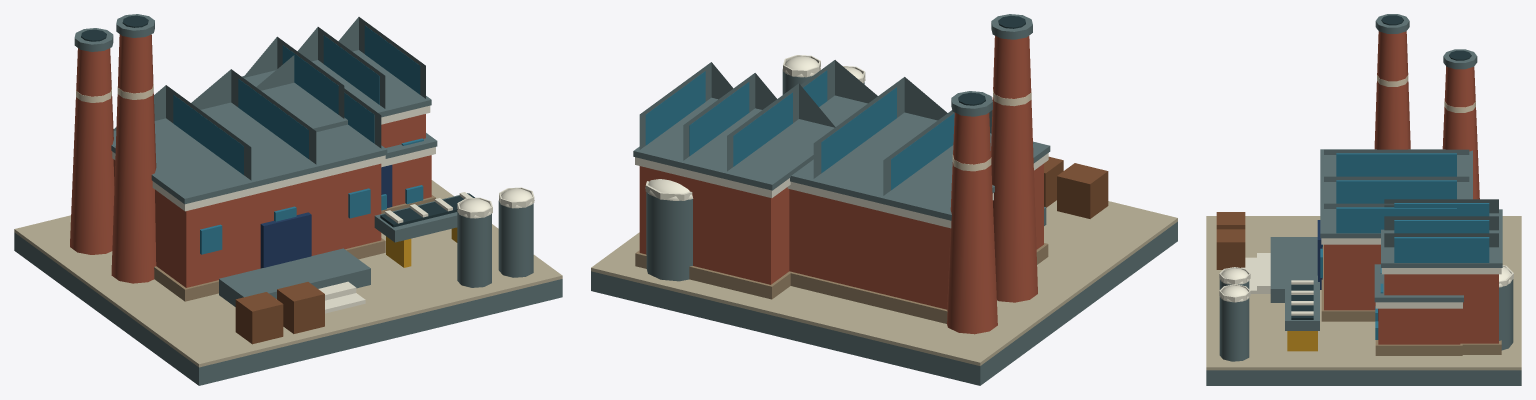
File: factory-lv3.glb
The picture shows the model from 3 angles, left to right: view 1: azimuth 30°, elevation 25°; view 2: azimuth 150°, elevation 25°; view 3: azimuth 270°, elevation 25°; orthographic projection. The views are drawn at different scales.
Visible parts, largest first — view 1: foundation_paving, chimney_clay, main_workshop_clay, main_workshop_roof_iron, foundation_iron, main_workshop_skylights_glass, material_silos_iron, second_workshop_skylights_glass, loading_platform_iron, second_workshop_roof_iron, supply_crates_wood, main_workshop_sawtooth_iron (+16 smaller); view 2: foundation_paving, chimney_clay, main_workshop_clay, foundation_iron, second_workshop_clay, main_workshop_roof_iron, second_workshop_roof_iron, second_workshop_skylights_glass, main_workshop_skylights_glass, main_workshop_sawtooth_iron, second_workshop_sawtooth_iron, supply_tank_iron (+10 smaller); view 3: foundation_paving, main_workshop_skylights_glass, chimney_clay, foundation_iron, second_workshop_skylights_glass, second_workshop_clay, main_workshop_clay, warehouse_clay, loading_platform_iron, main_workshop_roof_iron, second_workshop_sawtooth_iron, material_silos_iron (+21 smaller).
Boxes of the visible parts, x1=… form: foundation_paving: x1=14, y1=180, x2=562, y2=367; chimney_clay: x1=70, y1=34, x2=156, y2=283; main_workshop_clay: x1=113, y1=159, x2=381, y2=287; main_workshop_roof_iron: x1=111, y1=102, x2=387, y2=204; foundation_iron: x1=14, y1=232, x2=562, y2=385; main_workshop_skylights_glass: x1=173, y1=79, x2=374, y2=174; material_silos_iron: x1=457, y1=201, x2=533, y2=287; second_workshop_skylights_glass: x1=282, y1=25, x2=420, y2=114; loading_platform_iron: x1=219, y1=248, x2=370, y2=306; second_workshop_roof_iron: x1=242, y1=50, x2=431, y2=131; supply_crates_wood: x1=235, y1=282, x2=324, y2=344; main_workshop_sawtooth_iron: x1=113, y1=55, x2=381, y2=180; foundation_paving: x1=591, y1=200, x2=1177, y2=365; chimney_clay: x1=947, y1=36, x2=1037, y2=334; main_workshop_clay: x1=789, y1=163, x2=1043, y2=309; foundation_iron: x1=591, y1=221, x2=1177, y2=385; second_workshop_clay: x1=639, y1=166, x2=789, y2=284; main_workshop_roof_iron: x1=790, y1=95, x2=1050, y2=220; second_workshop_roof_iron: x1=633, y1=97, x2=836, y2=190; second_workshop_skylights_glass: x1=645, y1=71, x2=792, y2=166; main_workshop_skylights_glass: x1=803, y1=70, x2=954, y2=190; main_workshop_sawtooth_iron: x1=801, y1=60, x2=1033, y2=195; second_workshop_sawtooth_iron: x1=639, y1=62, x2=835, y2=171; supply_tank_iron: x1=646, y1=192, x2=692, y2=281; foundation_paving: x1=1206, y1=216, x2=1521, y2=370; main_workshop_skylights_glass: x1=1336, y1=153, x2=1456, y2=233; chimney_clay: x1=1374, y1=31, x2=1479, y2=199; foundation_iron: x1=1206, y1=370, x2=1521, y2=385; second_workshop_skylights_glass: x1=1394, y1=203, x2=1489, y2=262; second_workshop_clay: x1=1384, y1=274, x2=1498, y2=343; main_workshop_clay: x1=1324, y1=244, x2=1380, y2=310; warehouse_clay: x1=1378, y1=308, x2=1460, y2=344; loading_platform_iron: x1=1270, y1=237, x2=1317, y2=302; main_workshop_roof_iron: x1=1320, y1=149, x2=1472, y2=238; second_workshop_sawtooth_iron: x1=1384, y1=199, x2=1498, y2=247; material_silos_iron: x1=1219, y1=279, x2=1249, y2=361.
Bounding box in the file's own units: 1 × 0.7197 × 0.88.
